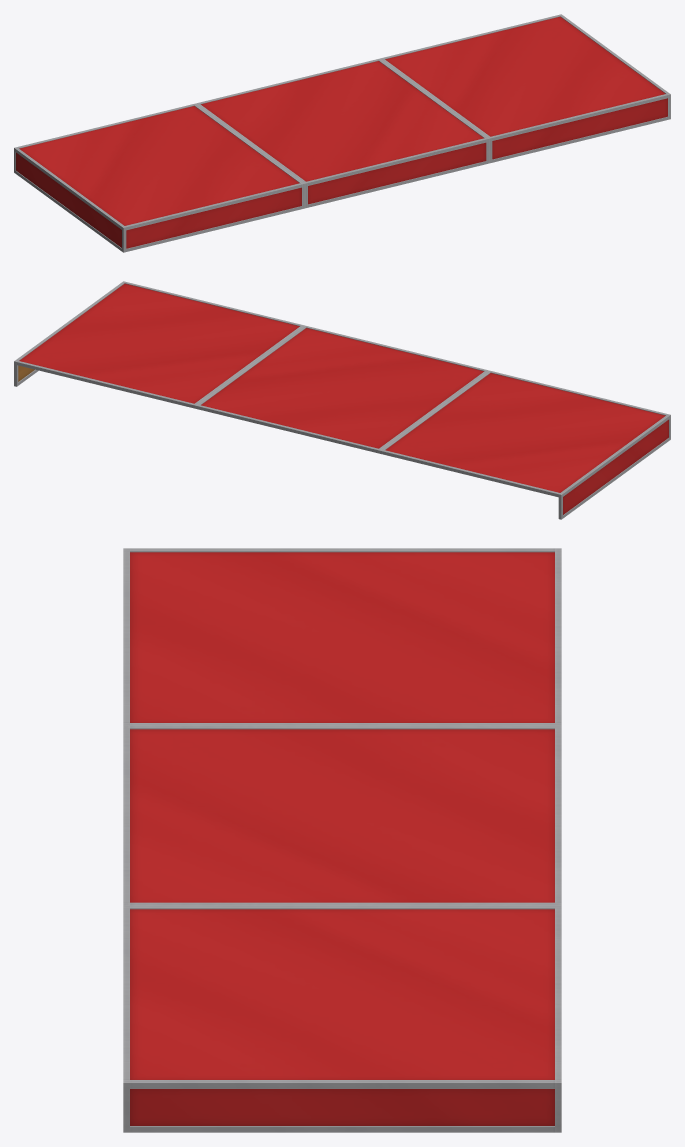
The model's file is jsf_2P_s03_c06_t01_DX.fbx.
The picture shows the model from 3 angles, top to bottom: view 1: azimuth 30°, elevation 25°; view 2: azimuth 150°, elevation 25°; view 3: azimuth 270°, elevation 25°; orthographic projection. The views are drawn at different scales.
Parts seen in each view (by area): view 1: jsf_2P_s03_c06_t01_DX; view 2: jsf_2P_s03_c06_t01_DX; view 3: jsf_2P_s03_c06_t01_DX.
Part boxes in pixels (x1=…): jsf_2P_s03_c06_t01_DX: x1=14, y1=14, x2=670, y2=252; jsf_2P_s03_c06_t01_DX: x1=14, y1=281, x2=670, y2=519; jsf_2P_s03_c06_t01_DX: x1=123, y1=548, x2=561, y2=1132.
Bounding box in the file's own units: 289 × 12.51 × 100.
